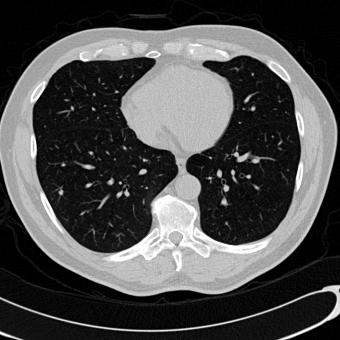nodule: (58, 190, 62, 194)
